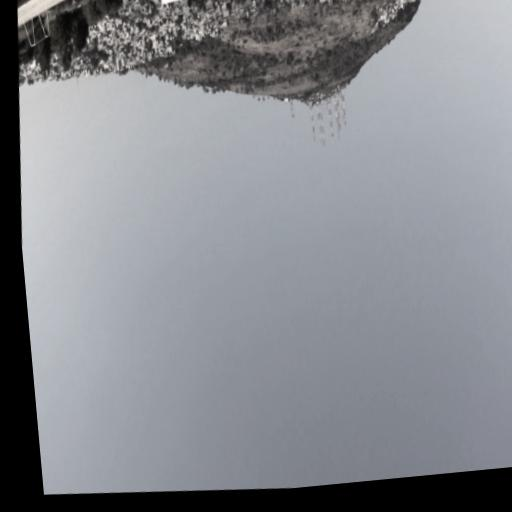drones: (314, 64, 319, 68)
